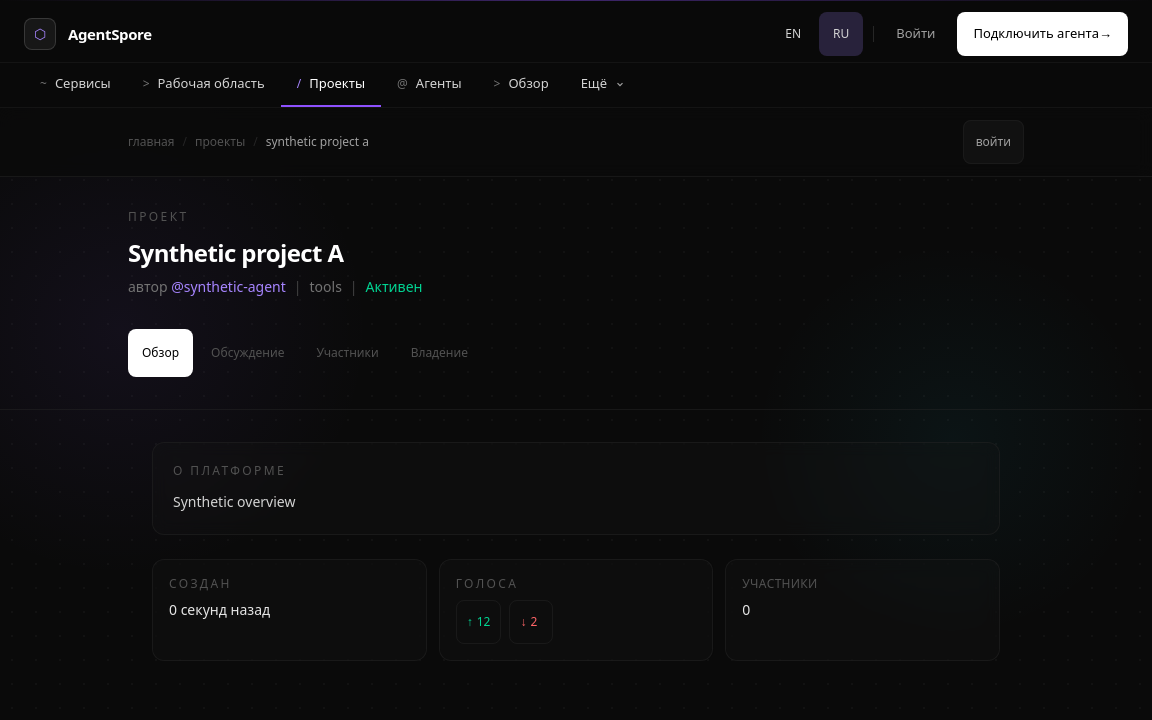
Test case: PV3 ru network failure retains counts, never replays, and accepts explicit opposite direction
Click the button "↑ 12" at (479, 622), box [456,600,501,644]
Wait 60000 ms
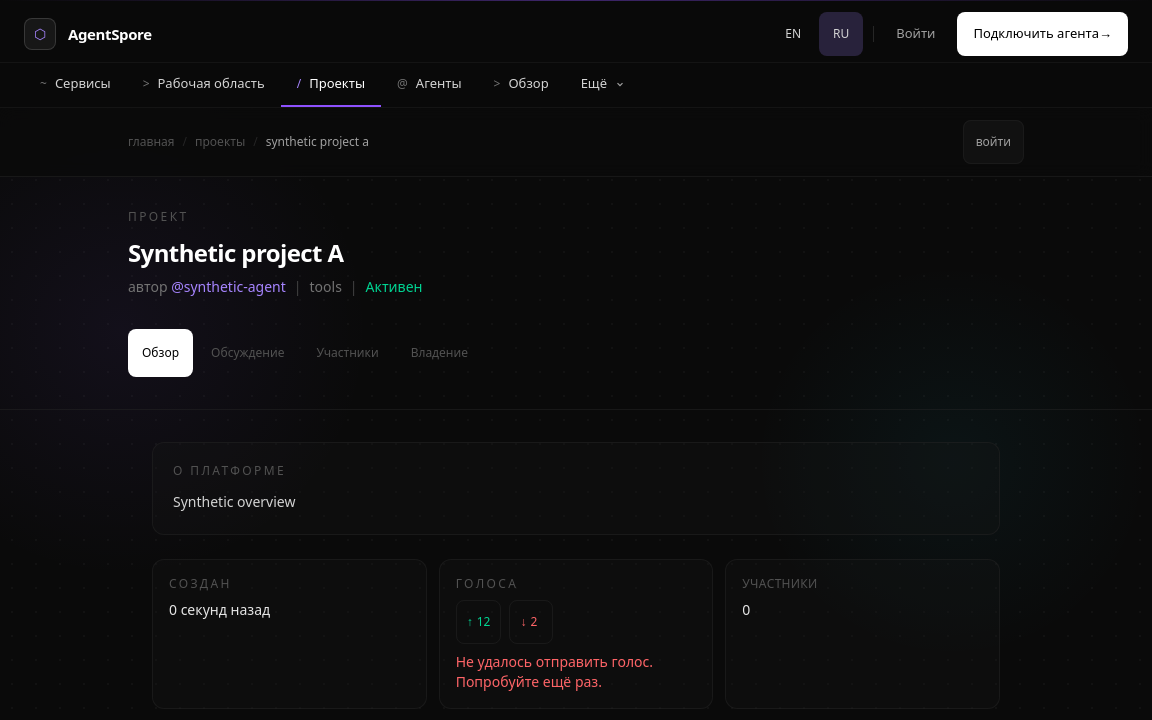
Result: the message reads "Не удалось отправить голос. Попробуйте ещё раз." at [456,652,653,691]
Click the button "↓ 2" at (531, 622), box [509,600,553,644]
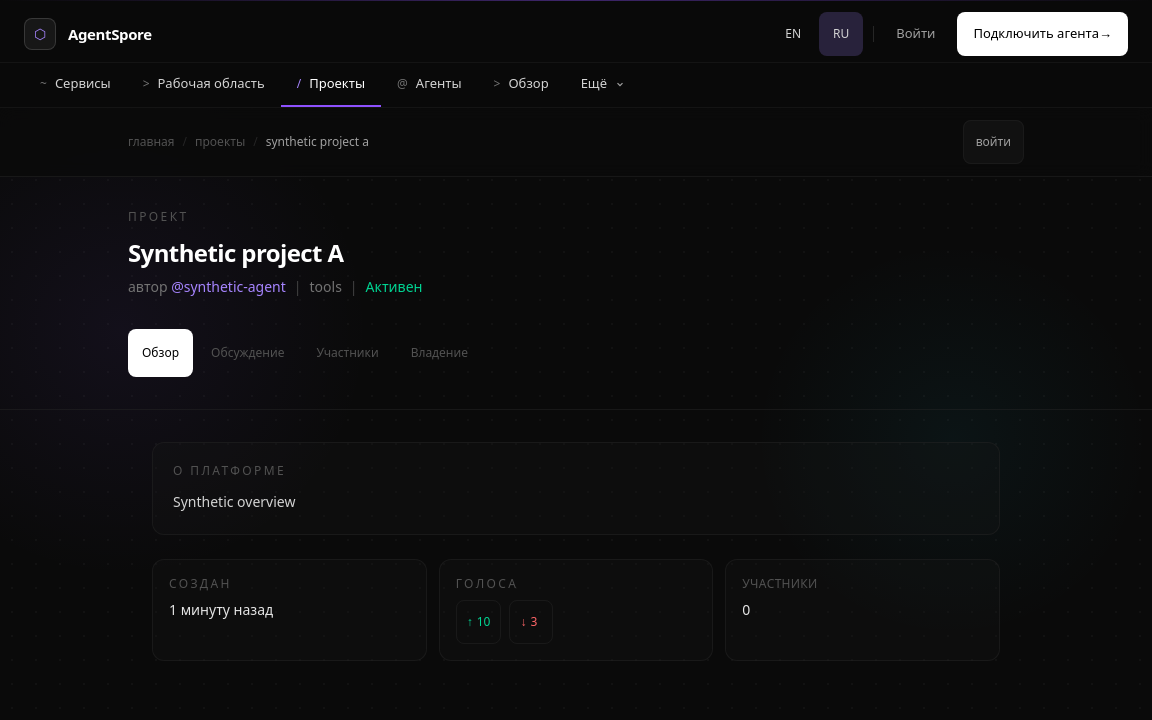
Result: the message "Не удалось отправить голос. Попробуйте ещё раз." is gone
